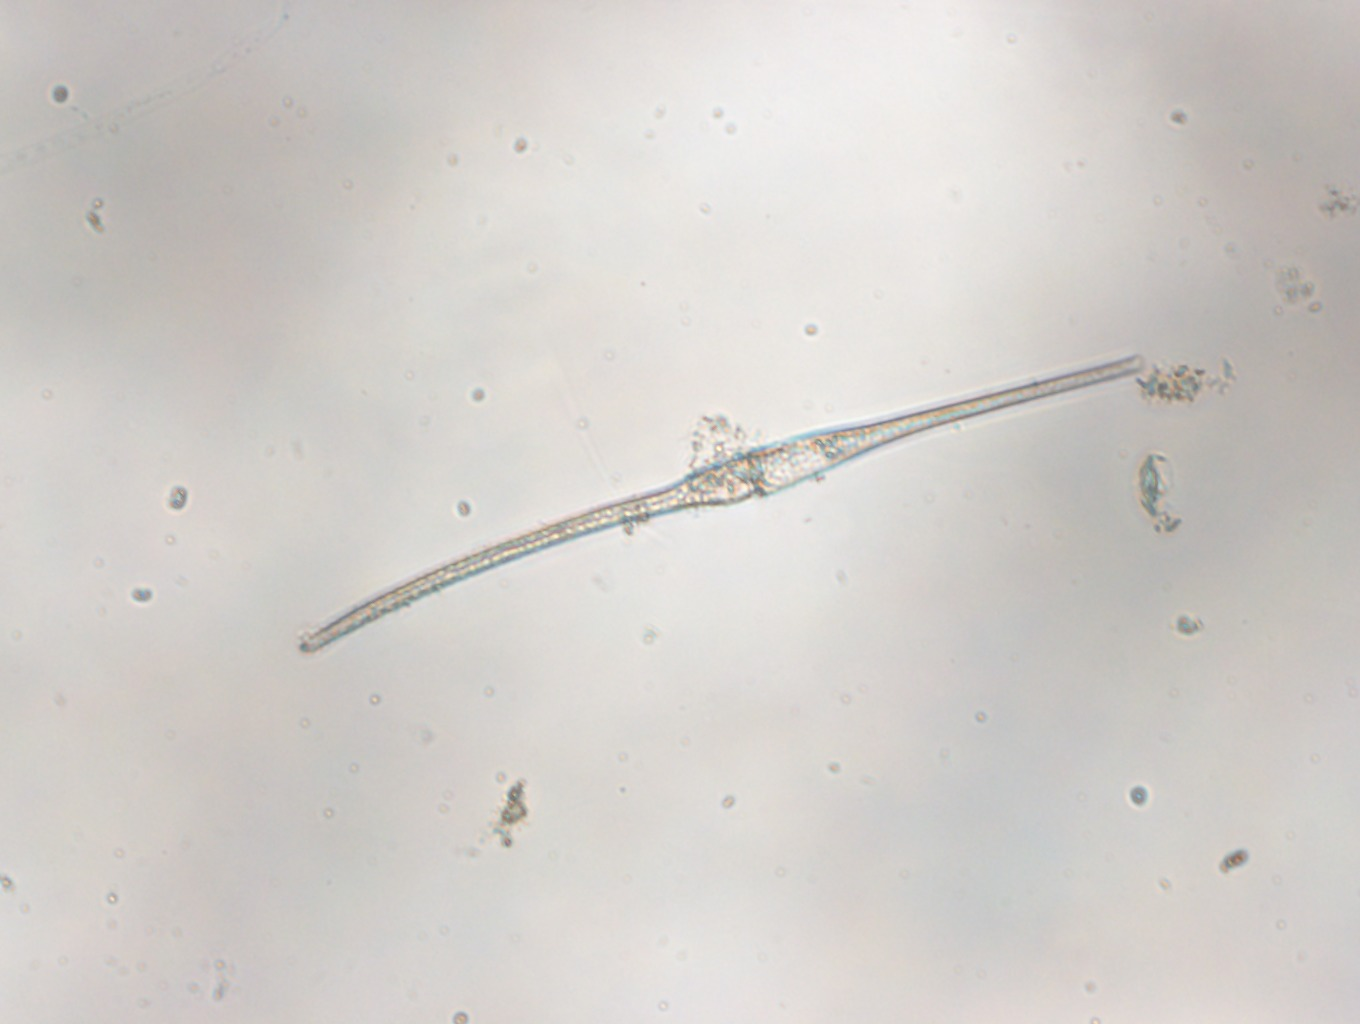ceratium fusus: (299, 356, 1146, 653)
